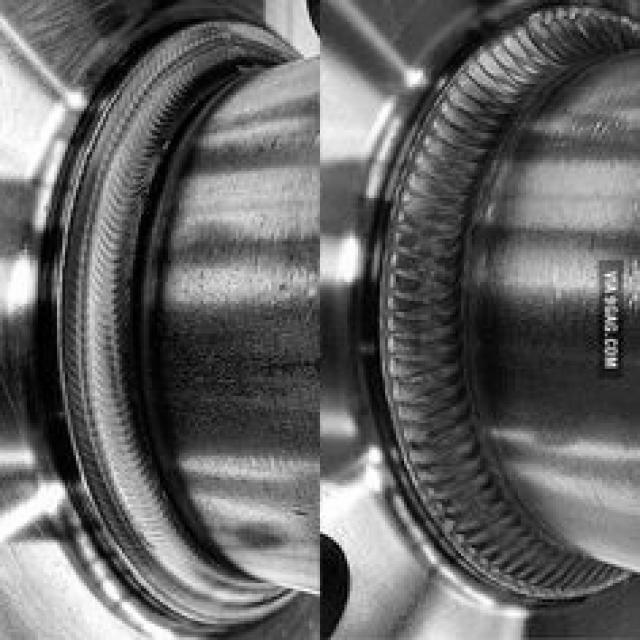Good Weld: (382, 73, 559, 589), (60, 73, 179, 578)
